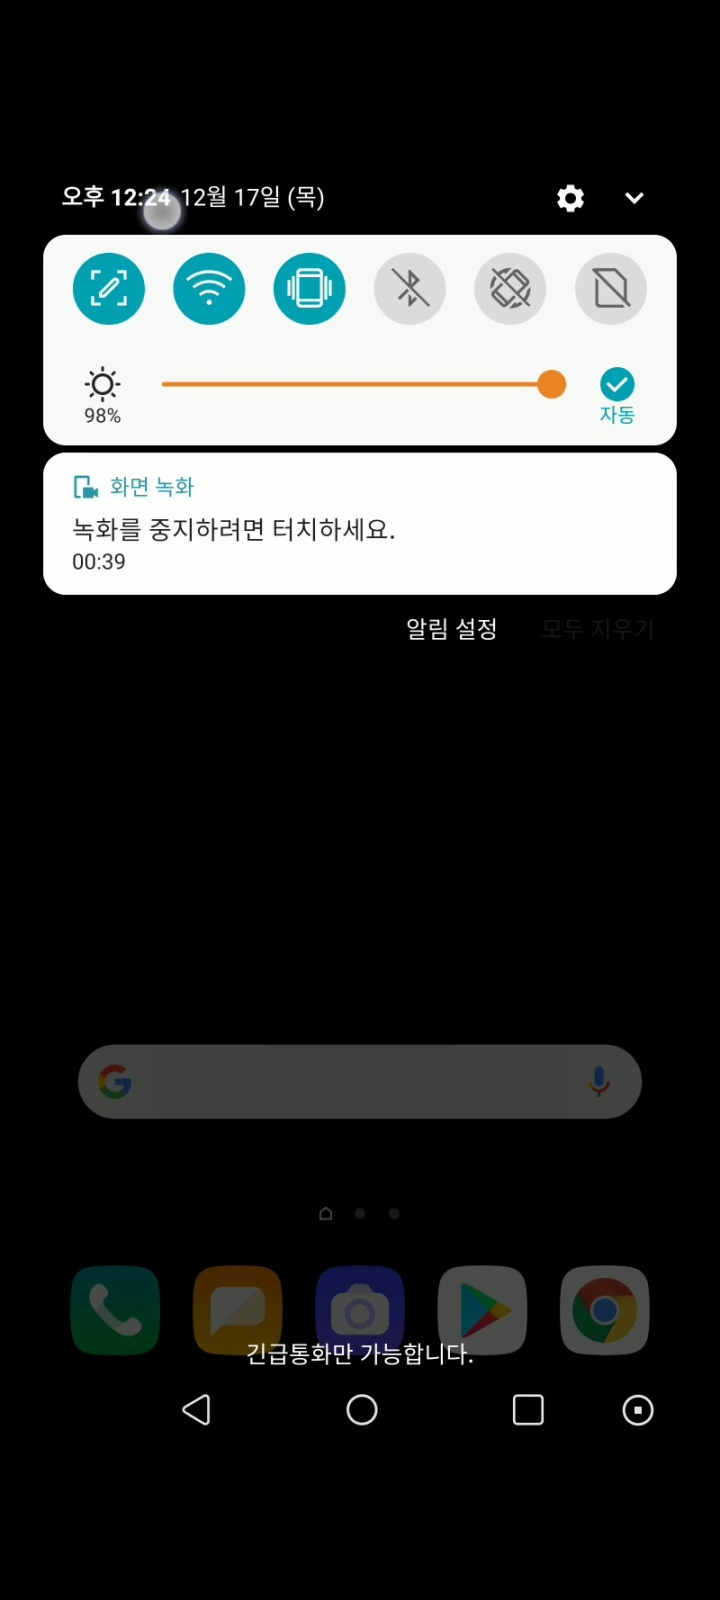Cursor: (141, 189, 186, 235)
